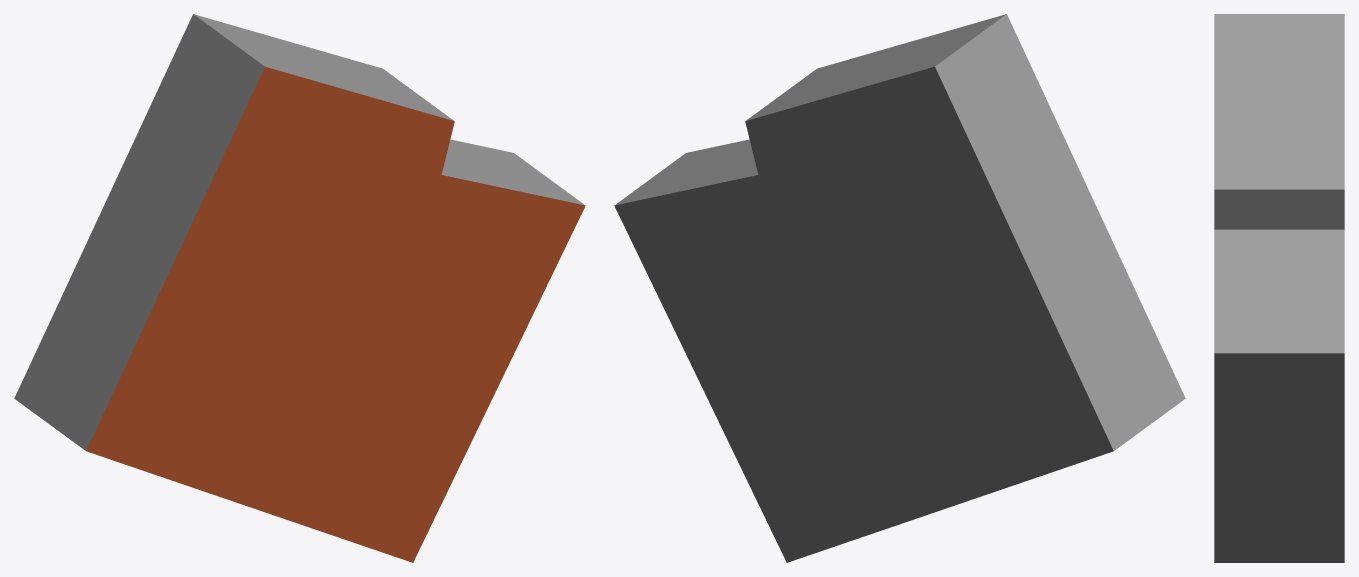
The model's file is construction_3330_assumed_A_Casa_h6m.obj.
The picture shows the model from 3 angles, left to right: view 1: azimuth 30°, elevation 25°; view 2: azimuth 150°, elevation 25°; view 3: azimuth 270°, elevation 25°; orthographic projection. The views are drawn at different scales.
Parts seen in each view (by area): view 1: construction_3330_assumed_A_Casa; view 2: construction_3330_assumed_A_Casa; view 3: construction_3330_assumed_A_Casa.
Boxes of the visible parts, bbox=[...] form: construction_3330_assumed_A_Casa: bbox=[14, 14, 585, 562]; construction_3330_assumed_A_Casa: bbox=[614, 14, 1185, 562]; construction_3330_assumed_A_Casa: bbox=[1214, 14, 1344, 562].
Size of the model in its own units: 24.07 by 24.52 by 6.
